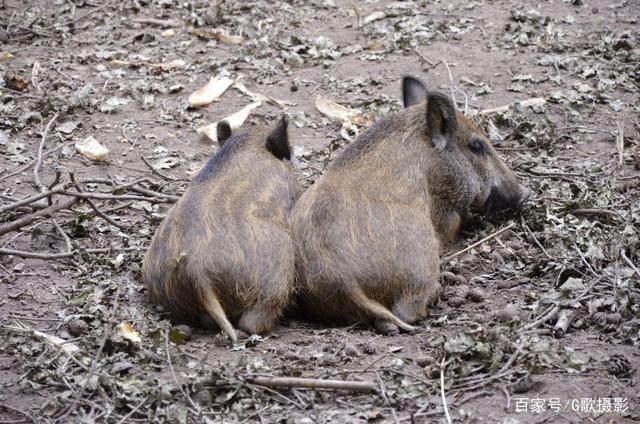boar: (298, 67, 533, 336), (136, 80, 307, 354)
